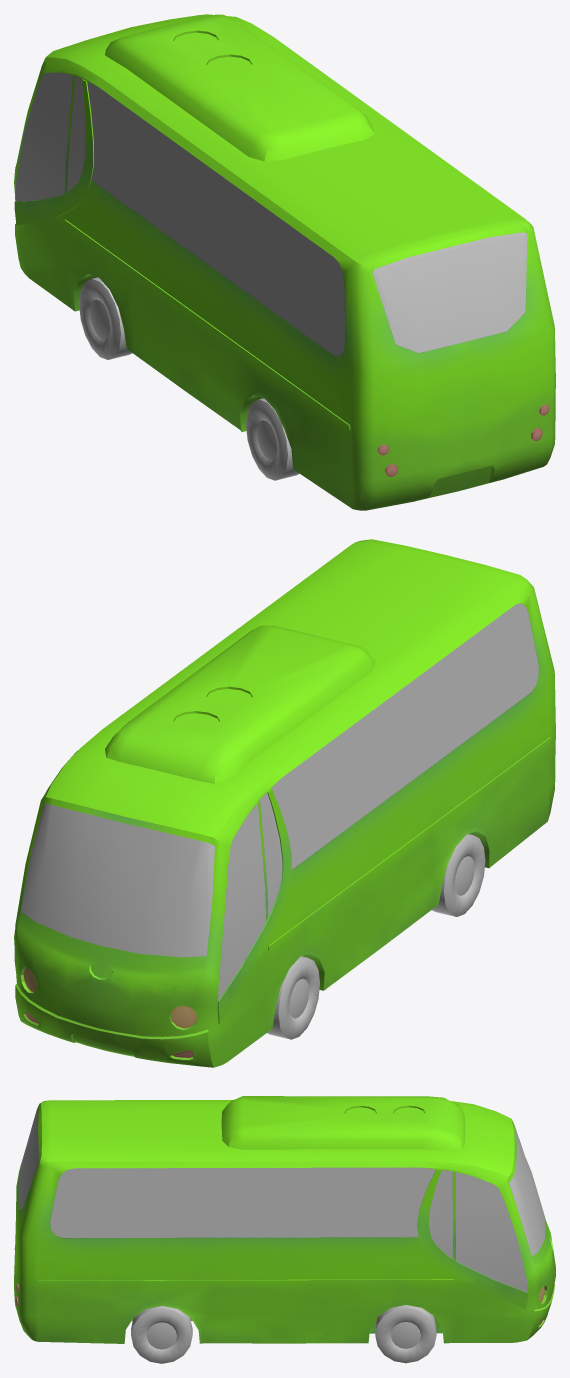
File: Mini Bus.fbx
The picture shows the model from 3 angles, top to bottom: view 1: azimuth 30°, elevation 25°; view 2: azimuth 150°, elevation 25°; view 3: azimuth 270°, elevation 25°; orthographic projection. The views are drawn at different scales.
Parts seen in each view (by area): view 1: Mini Bus, Mini Bus Window & tyre; view 2: Mini Bus, Mini Bus Window & tyre; view 3: Mini Bus, Mini Bus Window & tyre.
Part boxes in pixels (bbox=[...]): Mini Bus: bbox=[14, 14, 555, 510]; Mini Bus Window & tyre: bbox=[15, 72, 527, 480]; Mini Bus: bbox=[14, 539, 555, 1067]; Mini Bus Window & tyre: bbox=[21, 603, 538, 1039]; Mini Bus: bbox=[14, 1096, 555, 1343]; Mini Bus Window & tyre: bbox=[18, 1107, 545, 1363].
Bounding box in the file's own units: 4.42 × 5.99 × 13.7.
